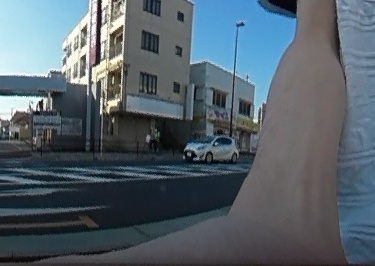person: (151, 126, 161, 149)
